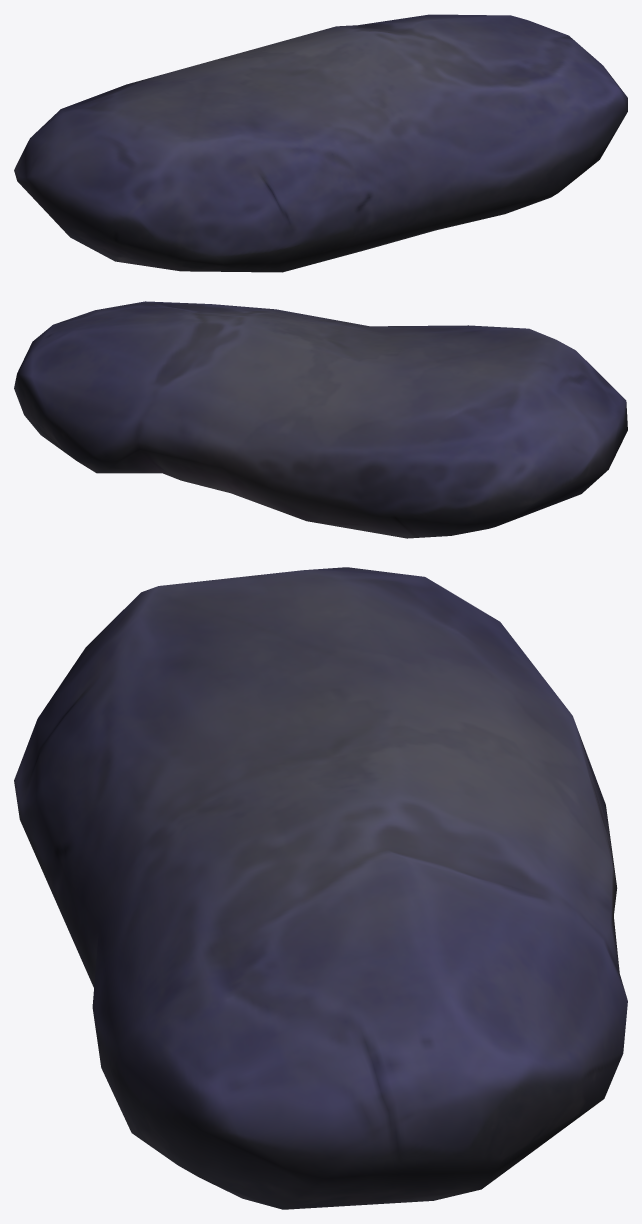
The model's file is SM_Gem_Obsidian_004.fbx.
3 views of the same model, one above another, from view 1: azimuth 30°, elevation 25°; view 2: azimuth 150°, elevation 25°; view 3: azimuth 270°, elevation 25° (orthographic). The views are drawn at different scales.
Parts seen in each view (by area): view 1: SM_Gem_Obsidian_004; view 2: SM_Gem_Obsidian_004; view 3: SM_Gem_Obsidian_004.
Boxes of the visible parts, x1=… form: SM_Gem_Obsidian_004: x1=14, y1=14, x2=627, y2=272; SM_Gem_Obsidian_004: x1=14, y1=301, x2=627, y2=538; SM_Gem_Obsidian_004: x1=14, y1=567, x2=627, y2=1209.
Size of the model in its own units: 60.04 by 16.02 by 32.08.
